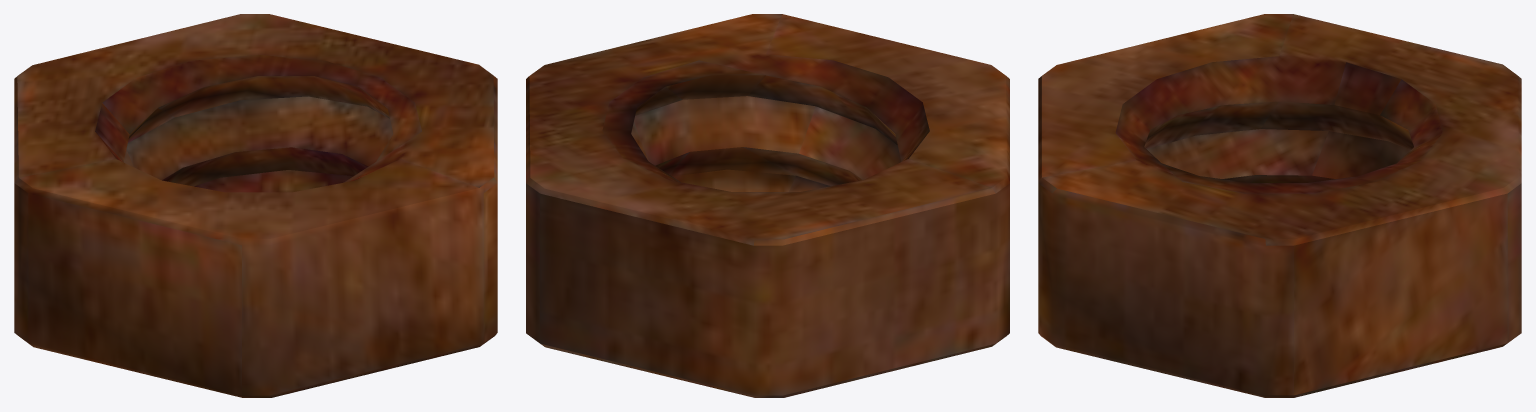
The model's file is bolts_nuts_07.glb.
3 renders of one model, left to right at view 1: azimuth 30°, elevation 25°; view 2: azimuth 150°, elevation 25°; view 3: azimuth 270°, elevation 25°, orthographic.
Visible parts, largest first — view 1: bolts_nuts_07; view 2: bolts_nuts_07; view 3: bolts_nuts_07.
Part boxes in pixels (left/top/right/bottom): bolts_nuts_07: left=14, top=14, right=497, bottom=397; bolts_nuts_07: left=526, top=14, right=1009, bottom=397; bolts_nuts_07: left=1038, top=14, right=1521, bottom=397.
Size of what is drawn, in the model's own units: 0.0441 by 0.0146 by 0.0393.
Materials: 1 (1 with a texture image).
